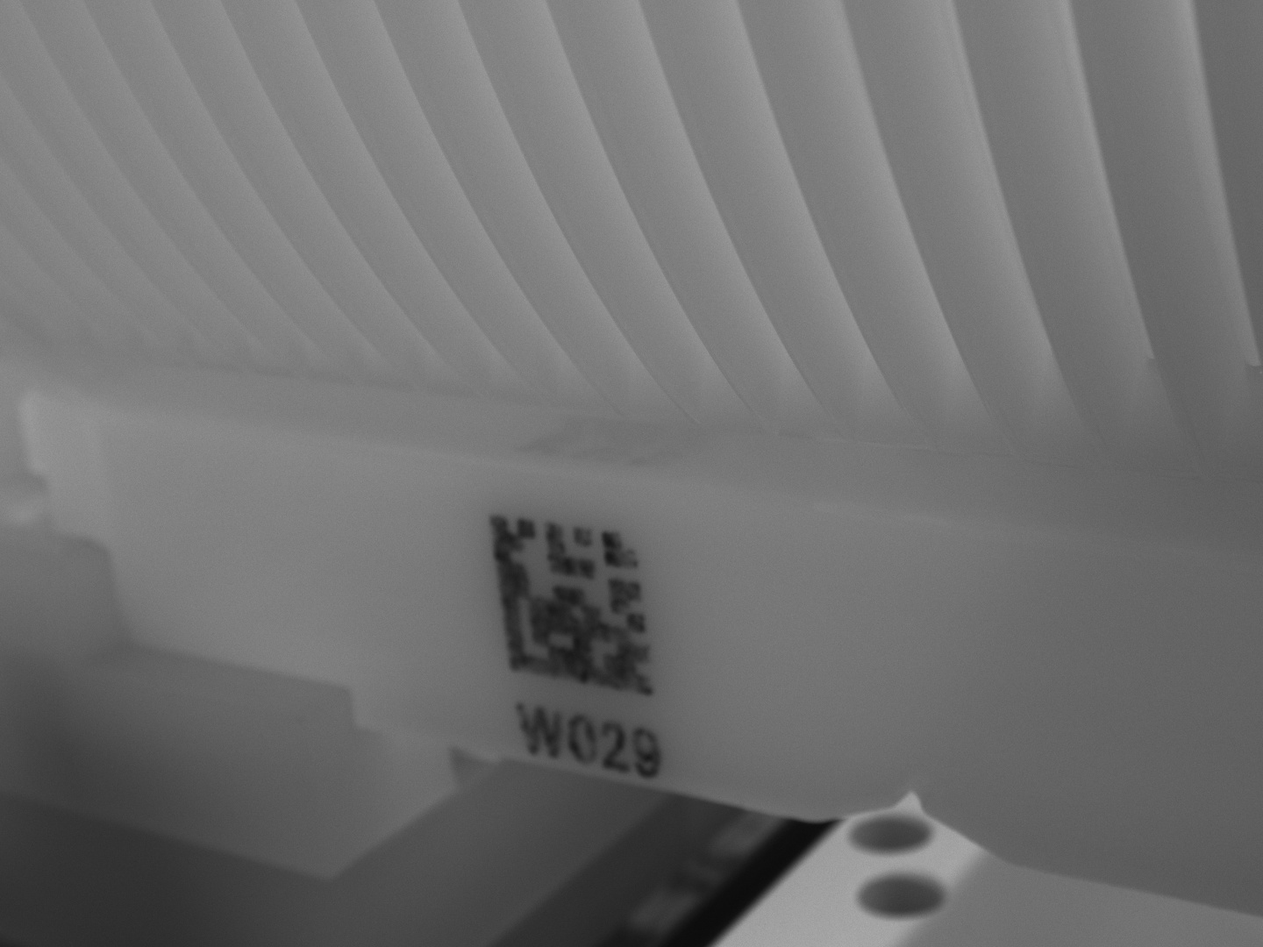datamatrix: (484, 509, 659, 696)
text: (511, 691, 662, 781)
